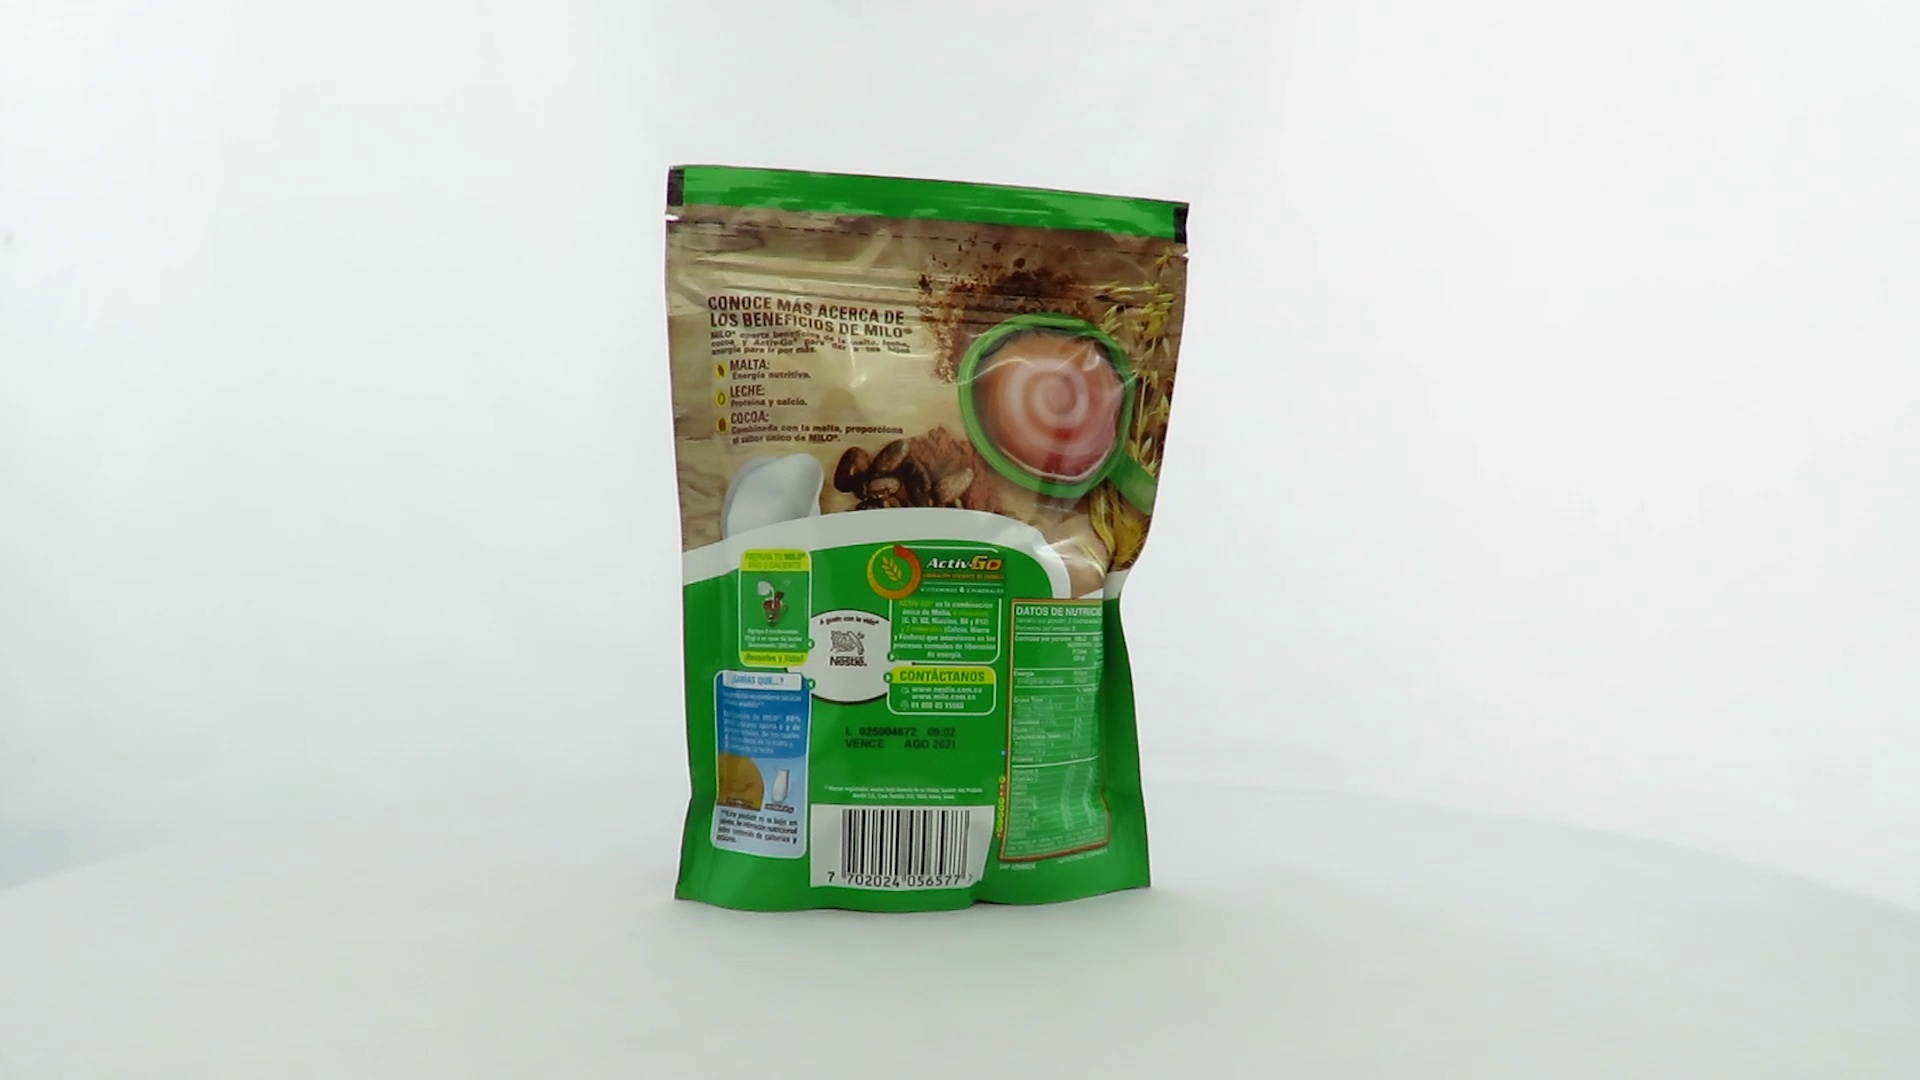COL0170205DYP20000: (659, 160, 1196, 920)
